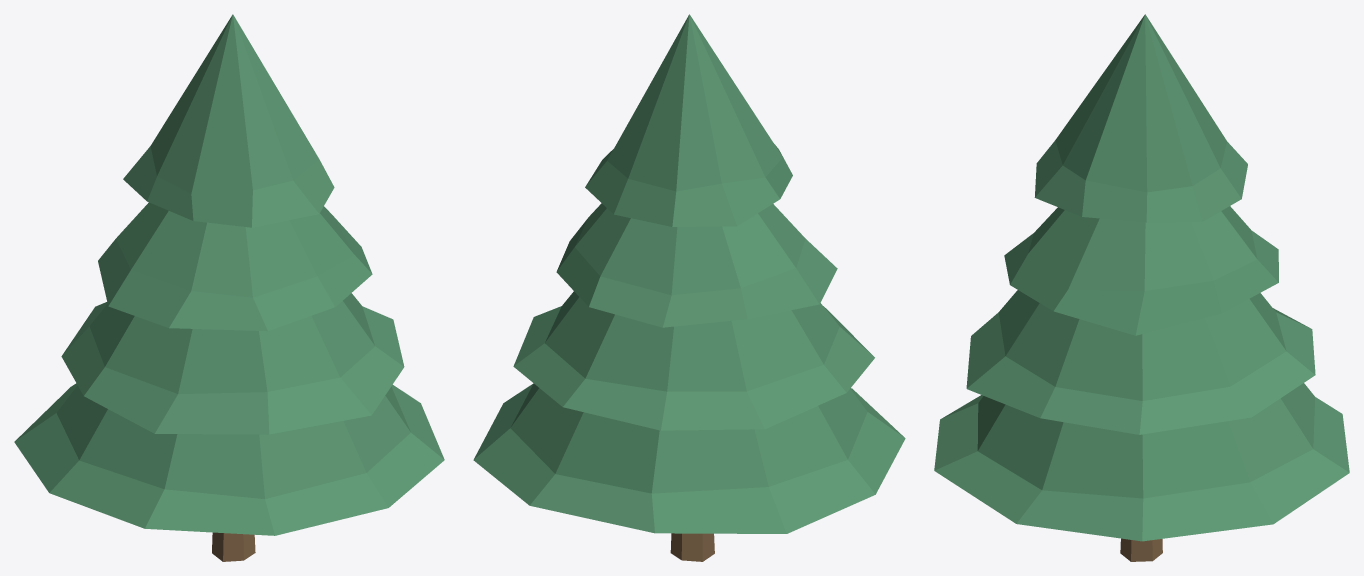
The model's file is tree_pine_c.glb.
The picture shows the model from 3 angles, left to right: view 1: azimuth 30°, elevation 25°; view 2: azimuth 150°, elevation 25°; view 3: azimuth 270°, elevation 25°; orthographic projection.
Visible parts, largest first — view 1: tree_pine_c; view 2: tree_pine_c; view 3: tree_pine_c.
Part boxes in pixels (x1,y1,x2,y2): tree_pine_c: [14, 14, 444, 561]; tree_pine_c: [473, 14, 905, 561]; tree_pine_c: [934, 14, 1349, 561].
Bounding box in the file's own units: 3.55 × 4.92 × 3.43.
